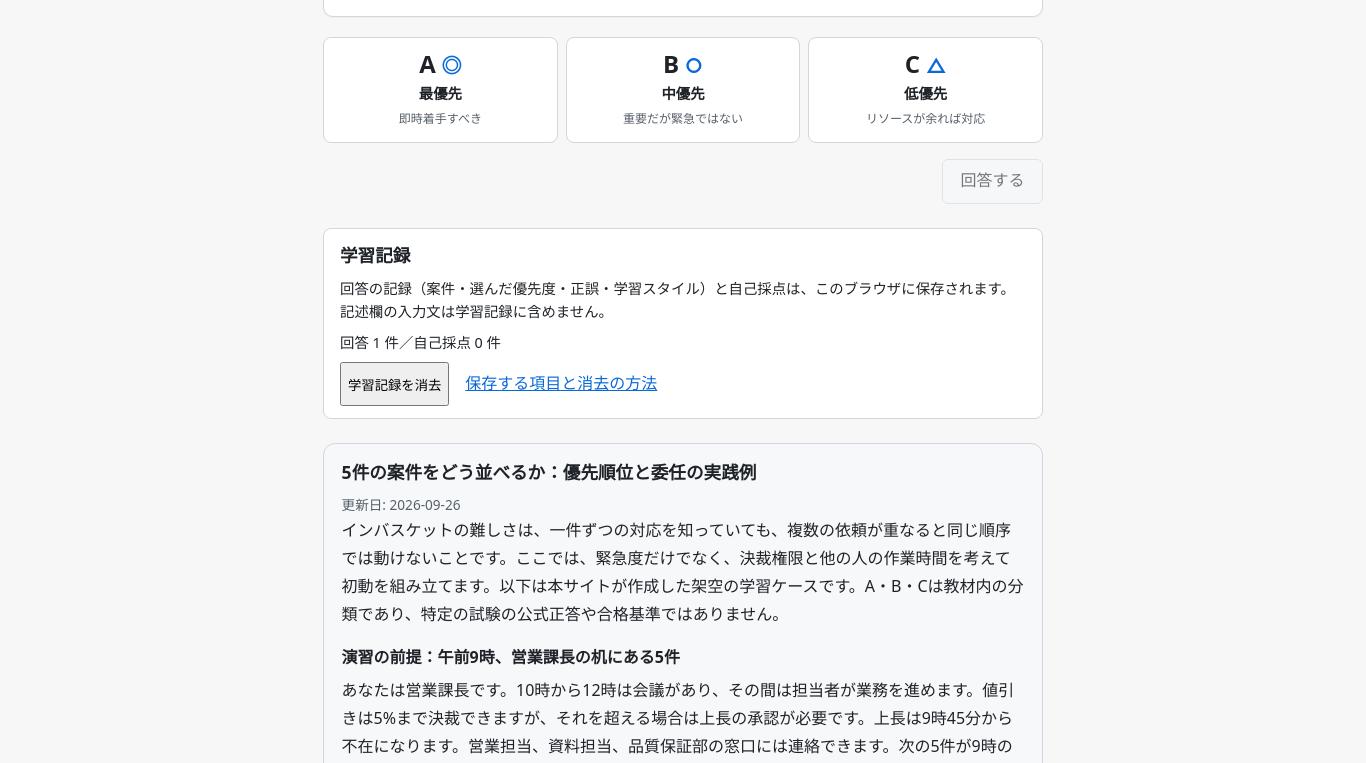
it: 学習記録の保存と出題範囲（PBI-107 / PBI-109） › 回答は再読み込み後も残り、確認後に消去できる
(page scrolled)
Click the button "学習記録を消去".
click(395, 384)  # box left=340, top=362, right=449, bottom=406
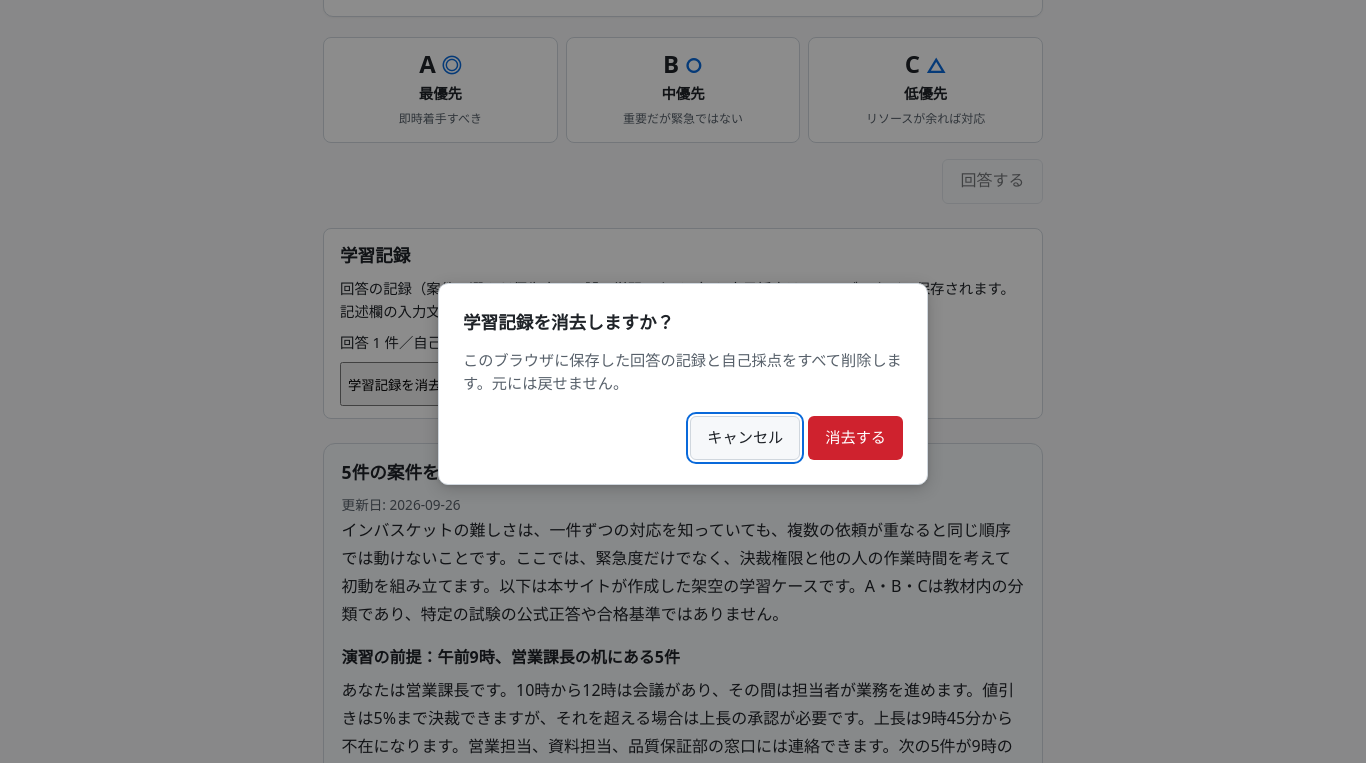
Click the button "消去する".
click(856, 438)  # box left=808, top=416, right=903, bottom=460
(page scrolled)
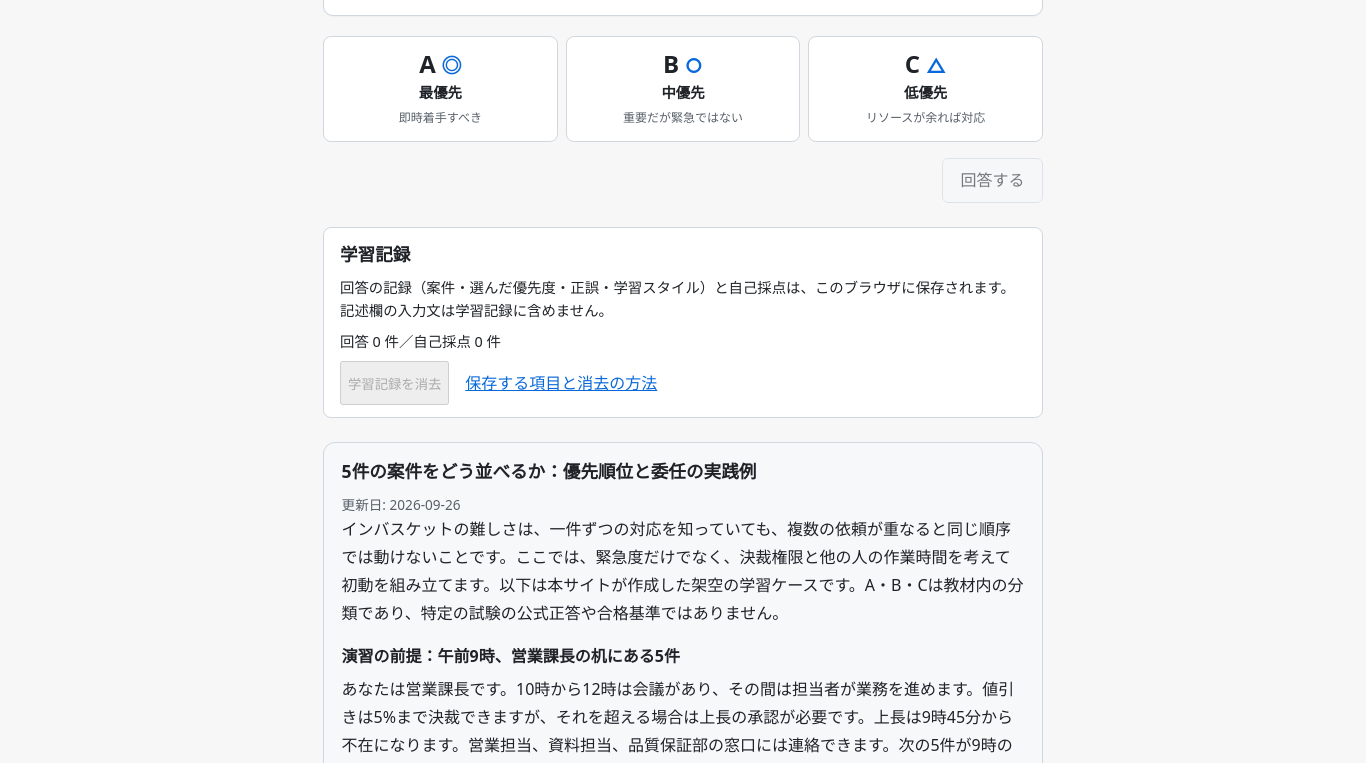
Expected: the text "回答 0 件" is shown, left=340, top=332, right=501, bottom=351
